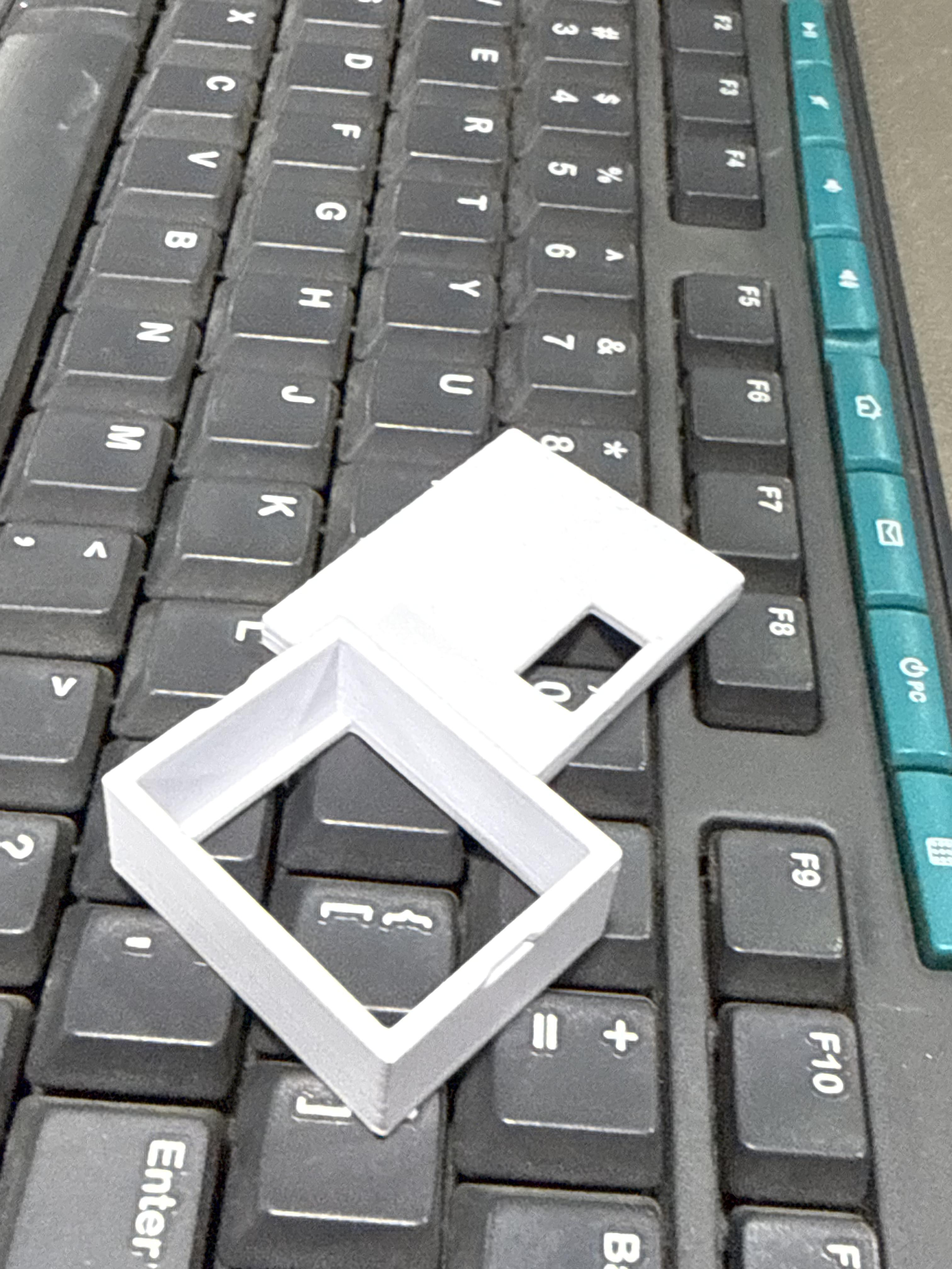enclosure: (100, 619, 625, 1138), (258, 427, 745, 784)
